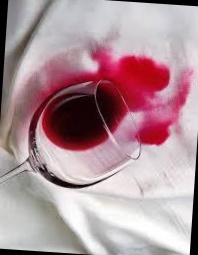wine: (40, 53, 172, 119), (132, 63, 188, 150)
